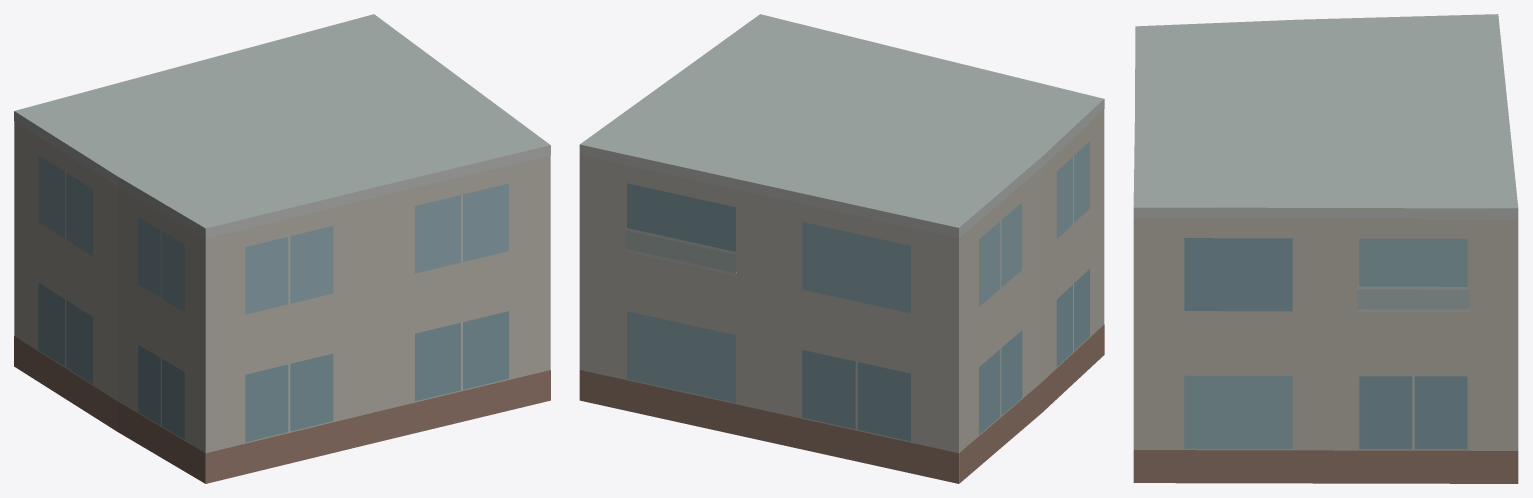
Rendered from survey-upis-32810948.glb.
3 views of the same model, side by side, from view 1: azimuth 30°, elevation 25°; view 2: azimuth 150°, elevation 25°; view 3: azimuth 270°, elevation 25° (orthographic). The views are drawn at different scales.
Visible parts, largest first — view 1: survey-upis-32810948.tmp; view 2: survey-upis-32810948.tmp; view 3: survey-upis-32810948.tmp.
Boxes of the visible parts, <box> form: survey-upis-32810948.tmp: <box>14,14,550,483</box>; survey-upis-32810948.tmp: <box>579,14,1104,483</box>; survey-upis-32810948.tmp: <box>1133,14,1518,483</box>.
Bounding box in the file's own units: 9.27 × 6.1 × 7.74.
